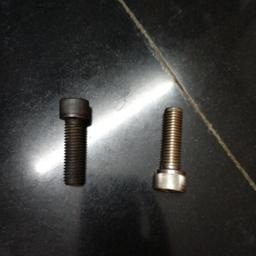screwtype1black: (58, 96, 95, 189)
screwtype1silver: (152, 106, 189, 197)
